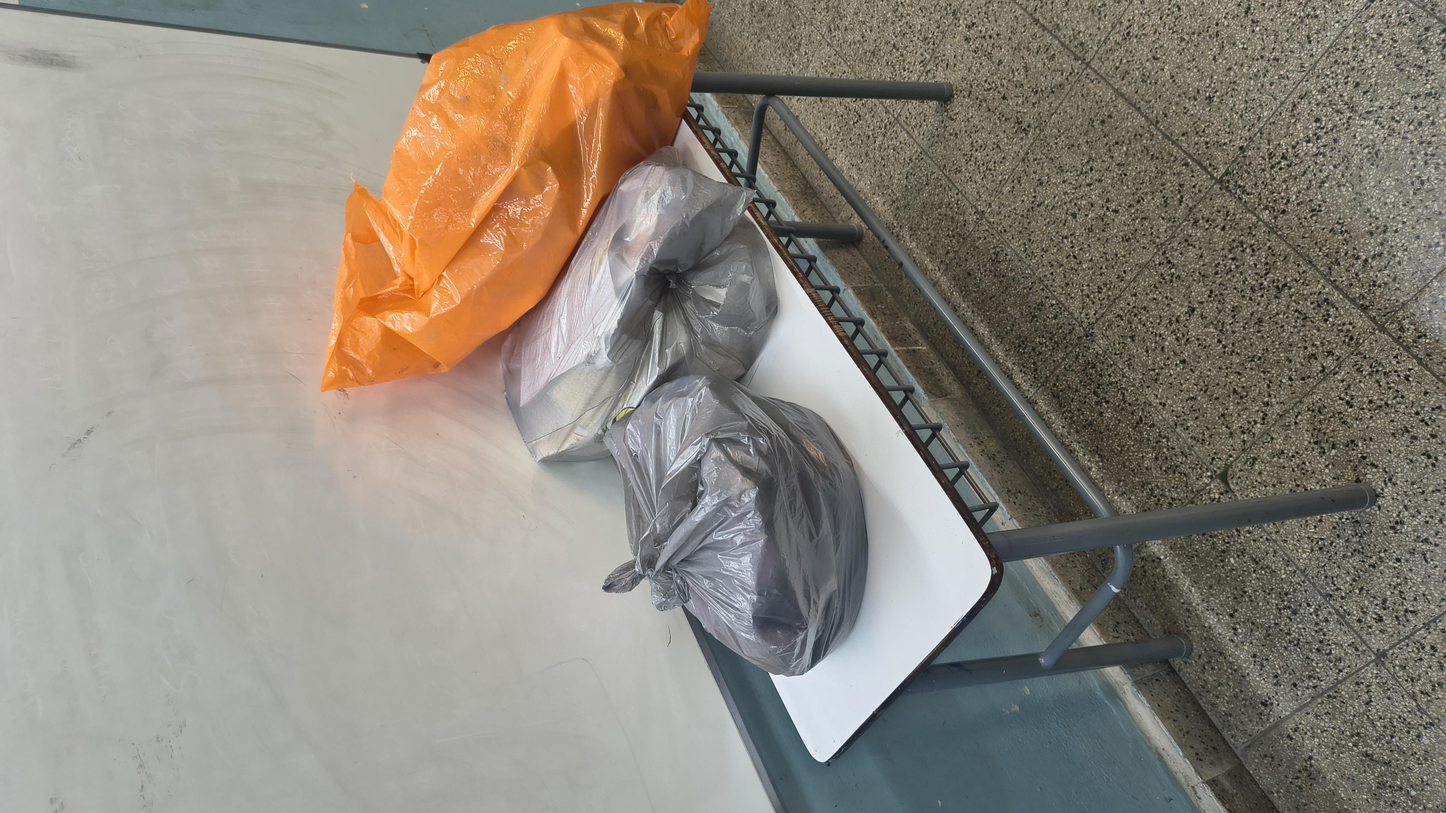Garbage: (728, 171, 1446, 405), (232, 335, 828, 502), (609, 276, 1186, 441)
